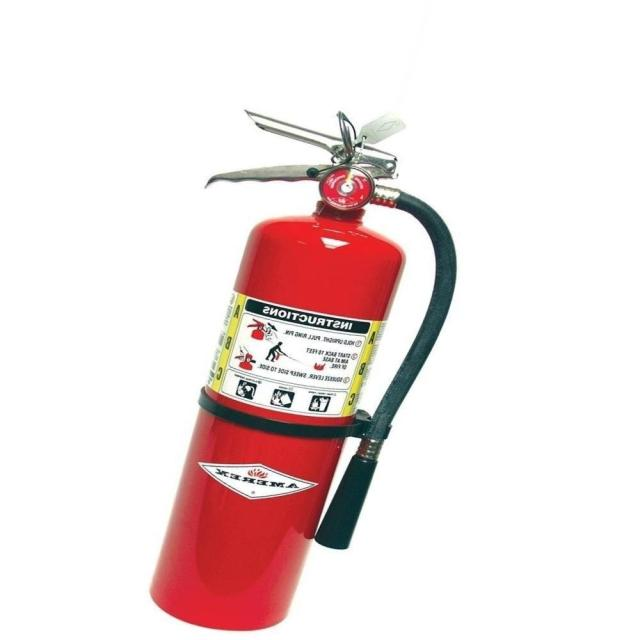fire_extinguisher: (145, 106, 460, 634)
